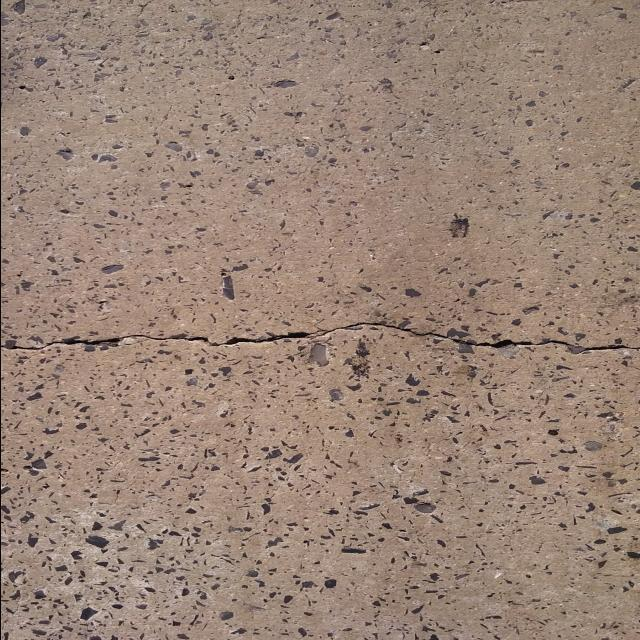Crack: (0, 320, 640, 352)
